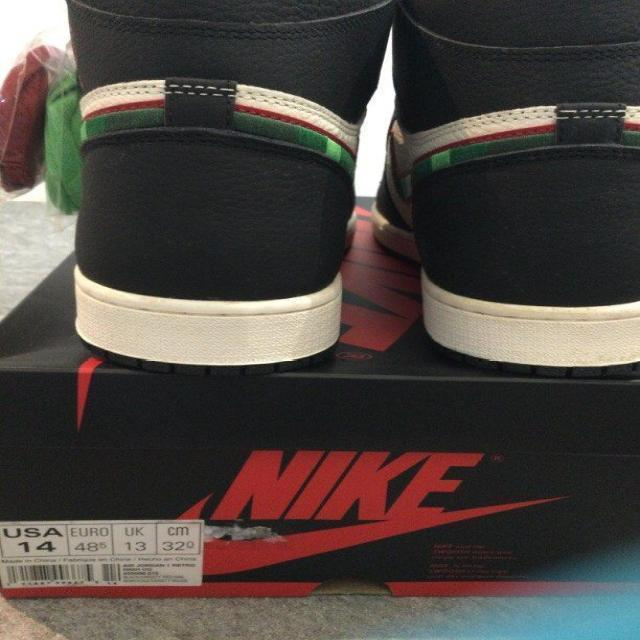nike original jordan 1: (68, 0, 354, 382), (380, 0, 640, 374)
